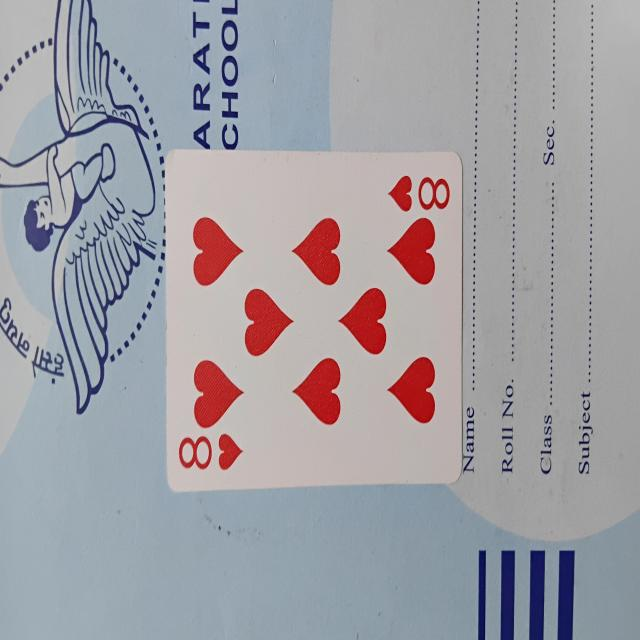8H: (167, 152, 462, 482)
